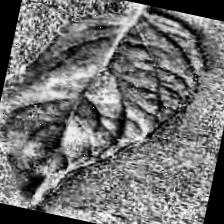leaf mold: (0, 0, 208, 224)
